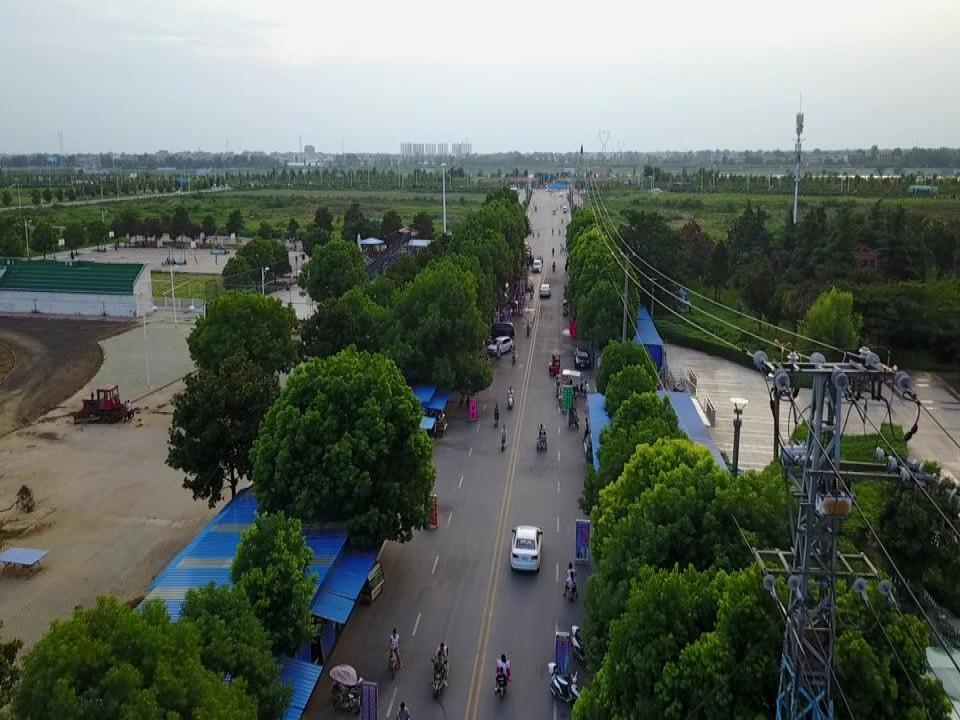car: (509, 524, 543, 575), (485, 336, 513, 356), (485, 320, 515, 336), (573, 347, 590, 369), (539, 284, 551, 297), (532, 260, 541, 272)
